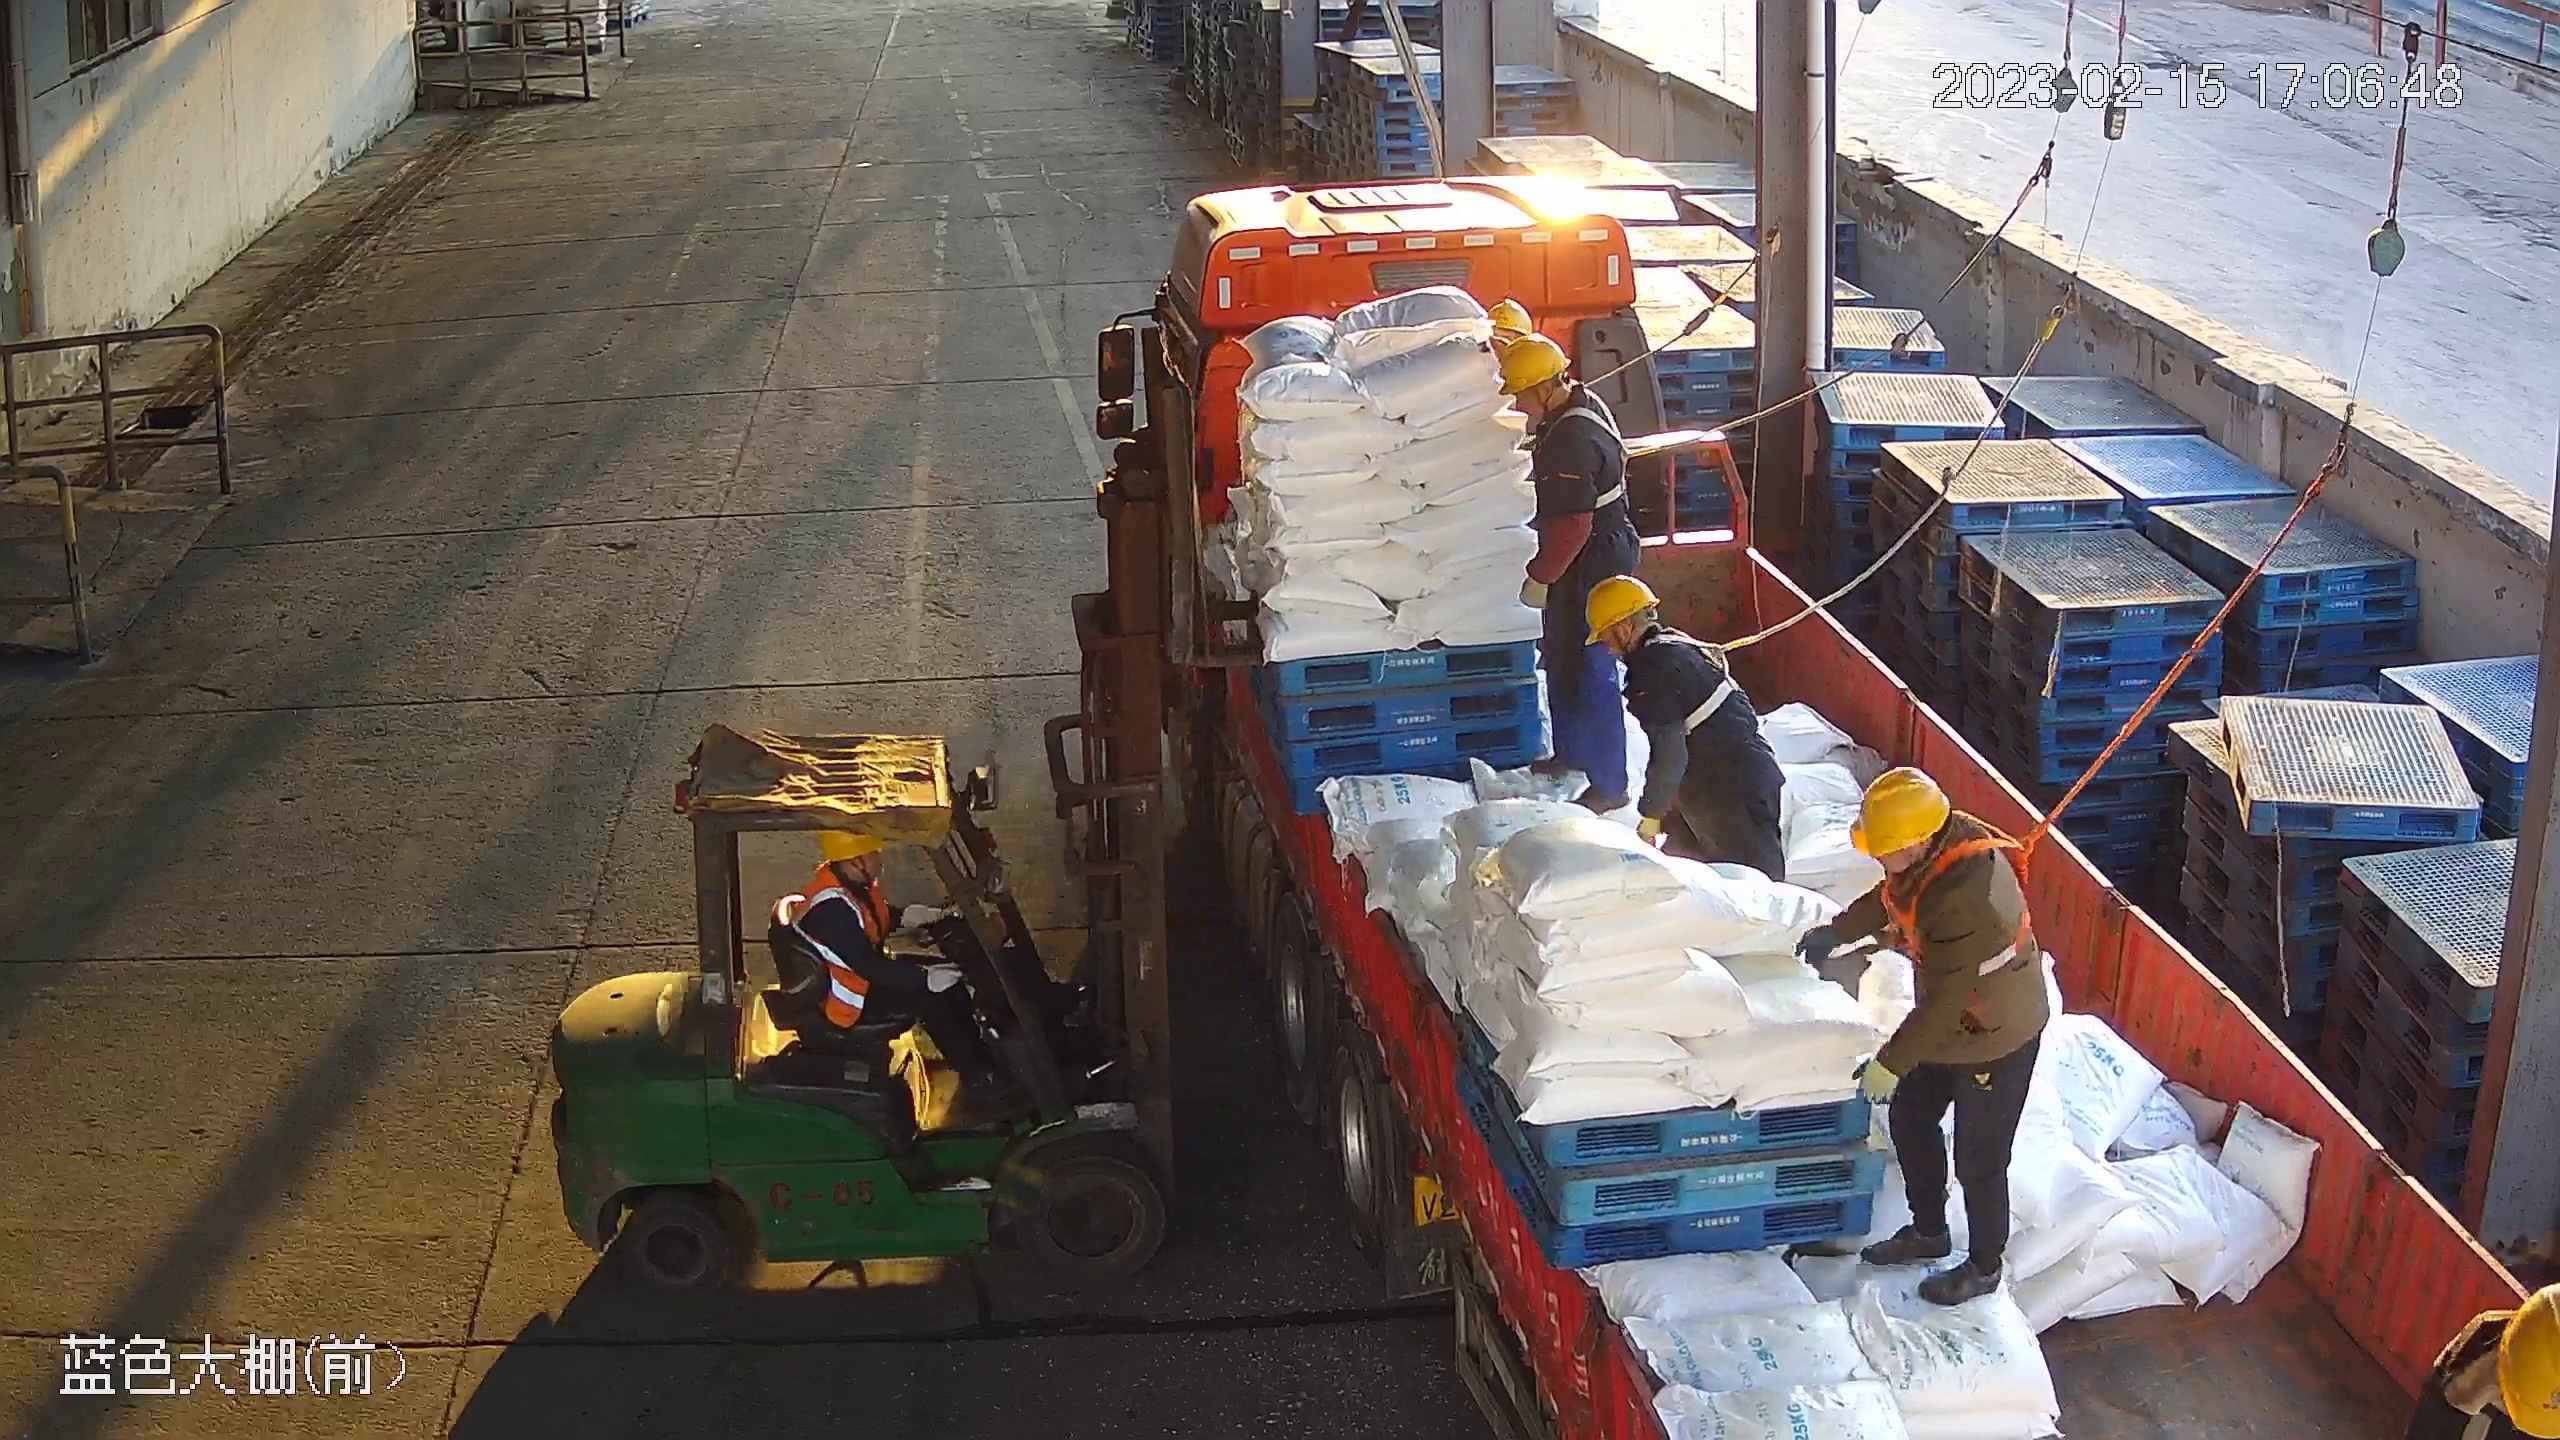belt: (1864, 830, 2038, 960), (1652, 620, 1782, 742), (1575, 387, 1697, 507)
head: (1839, 767, 2023, 922), (1495, 336, 1636, 493), (1587, 576, 1726, 712), (798, 824, 906, 952)
helmet: (2496, 1287, 2560, 1440), (1851, 767, 1952, 852), (1584, 576, 1660, 645), (1495, 332, 1572, 398), (814, 825, 890, 863), (1489, 296, 1539, 338)
people: (1794, 766, 2051, 1309), (1495, 331, 1644, 817), (1585, 575, 1786, 885), (797, 817, 1007, 1099)
truck: (1086, 176, 2560, 1440)
